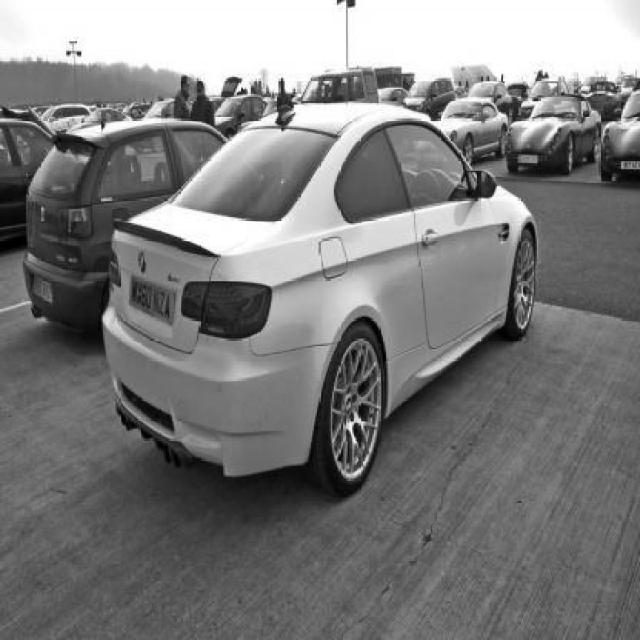car: (103, 97, 539, 503), (23, 118, 260, 322), (0, 115, 82, 254), (503, 95, 597, 177), (438, 89, 509, 157), (601, 79, 640, 192), (218, 89, 272, 131), (40, 102, 106, 136), (403, 74, 457, 108)
license-plate: (128, 277, 180, 323), (26, 271, 57, 306), (514, 158, 544, 168), (615, 163, 640, 171)
